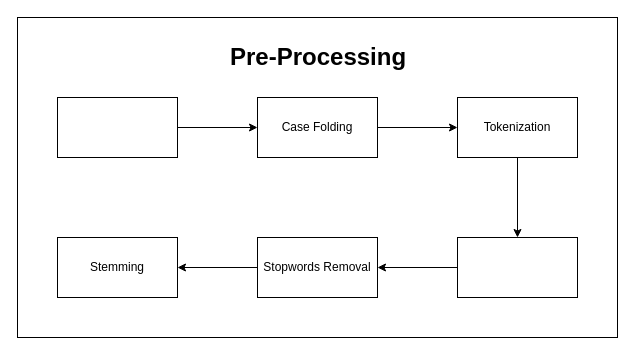
This 635x355 diagram has some shape labels left out. Each missing label, with the box of its shape:
Data Cleaning: (56, 96, 178, 158)
Normalization: (456, 236, 578, 298)
